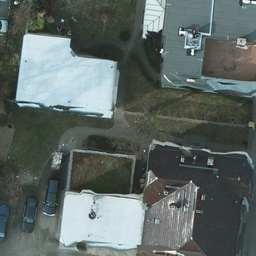car: (43, 178, 59, 216), (21, 197, 37, 235), (1, 203, 9, 240)
